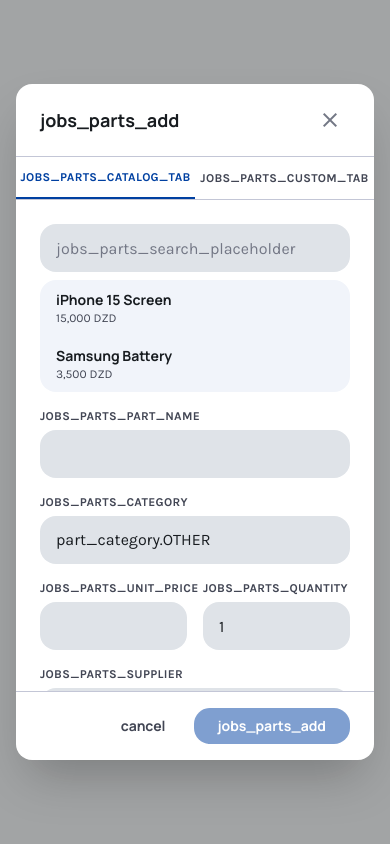
Test case: AddPartDialog › shows error on failed submit
The image size is (390, 844).
Click the button "jobs_parts_custom_tab": [284, 178] box x1=195 y1=157 x2=374 y2=199
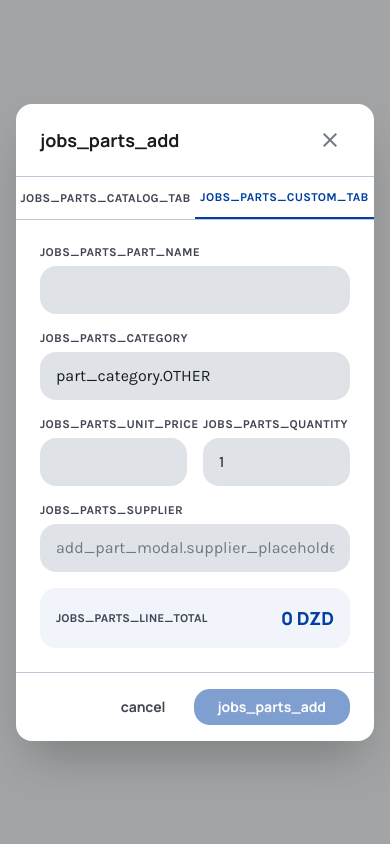
In the field with id "add-part-name": [195, 290] box x1=40 y1=266 x2=350 y2=314, type "Bad Part"
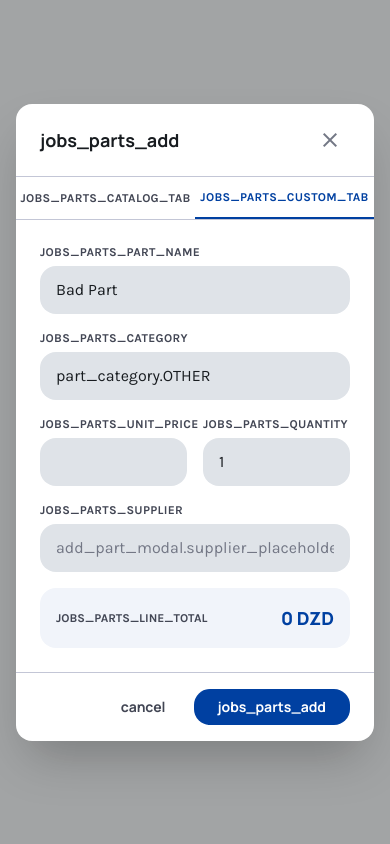
In the number field with id "add-part-price": [114, 462] box x1=40 y1=438 x2=187 y2=486, type "100"
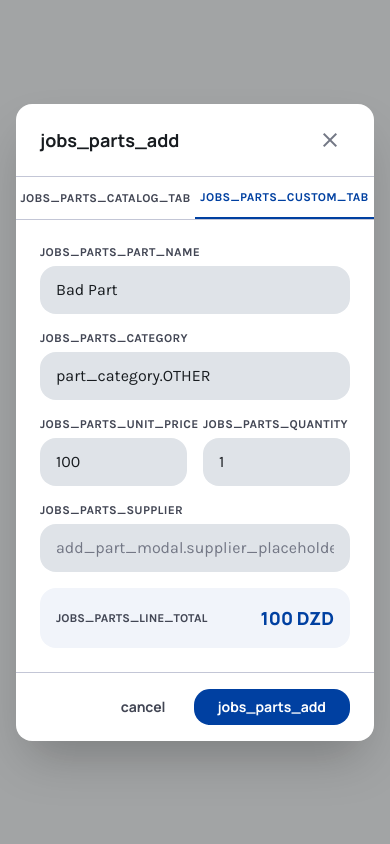
Click the button "jobs_parts_add": [272, 706] box x1=194 y1=688 x2=350 y2=724
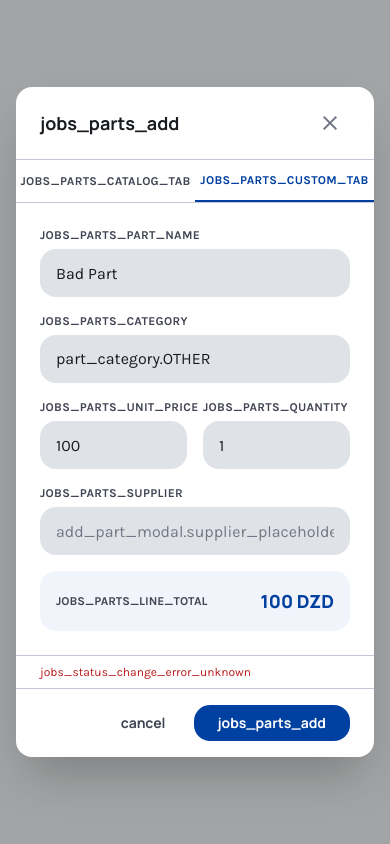
Result: the text "jobs_status_change_error_unknown" is shown at x1=40 y1=665 x2=251 y2=679
